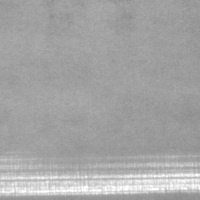scratches: (1, 165, 199, 196)
